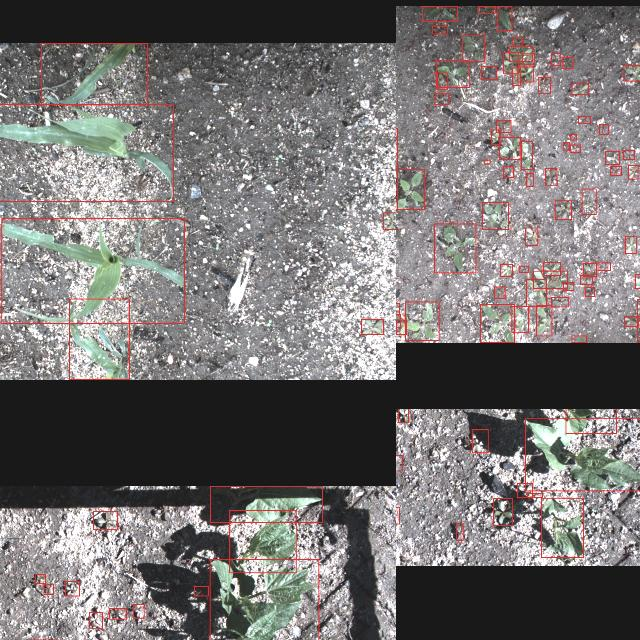crop: (0, 218, 184, 324), (0, 104, 172, 201), (209, 558, 318, 640), (524, 419, 640, 491), (41, 44, 147, 104), (69, 298, 129, 379), (229, 510, 295, 572), (210, 486, 322, 522), (541, 498, 583, 558), (565, 409, 615, 433)
weed: (433, 224, 475, 272), (404, 302, 438, 341), (480, 305, 514, 343), (396, 169, 424, 209), (436, 59, 468, 86), (482, 202, 508, 230), (533, 271, 567, 289), (462, 35, 484, 61), (526, 279, 546, 307), (492, 498, 512, 526), (535, 306, 551, 336), (422, 6, 456, 20), (510, 307, 528, 333), (499, 137, 519, 159), (93, 511, 117, 529), (581, 188, 595, 214), (502, 52, 518, 74), (471, 430, 487, 452), (497, 6, 511, 30), (520, 141, 532, 169), (508, 46, 532, 60), (554, 200, 570, 220), (361, 320, 383, 334), (622, 65, 640, 80), (517, 66, 533, 82), (542, 262, 560, 276), (382, 212, 396, 229), (88, 612, 102, 628), (64, 580, 78, 596), (516, 484, 532, 498), (525, 228, 537, 246), (624, 236, 636, 254), (544, 168, 556, 186), (570, 84, 588, 95), (582, 263, 596, 277), (538, 77, 550, 93), (480, 66, 496, 78), (550, 297, 568, 307), (108, 609, 125, 619), (605, 152, 619, 164), (496, 120, 510, 132), (132, 604, 144, 618), (437, 73, 447, 89), (434, 94, 448, 105), (499, 264, 511, 276), (511, 67, 519, 85), (490, 130, 500, 144), (627, 165, 637, 179), (624, 317, 638, 327), (396, 320, 406, 334), (194, 586, 208, 596), (398, 409, 408, 422), (503, 166, 513, 178), (622, 150, 634, 160), (562, 56, 572, 68), (550, 53, 560, 65), (522, 54, 534, 64), (596, 263, 610, 271), (432, 25, 446, 33), (494, 288, 504, 298), (598, 124, 608, 134), (35, 574, 45, 584), (43, 584, 53, 594), (478, 6, 494, 12), (580, 276, 592, 284), (562, 283, 574, 291), (525, 174, 533, 186), (578, 116, 590, 124), (456, 524, 462, 540), (610, 167, 620, 176), (572, 336, 586, 342), (634, 275, 640, 289), (584, 288, 594, 296), (570, 144, 580, 152), (512, 37, 522, 45), (396, 455, 401, 471), (526, 493, 542, 497), (518, 266, 528, 272), (563, 142, 569, 150), (569, 134, 575, 140), (396, 303, 399, 315), (483, 160, 489, 164)
